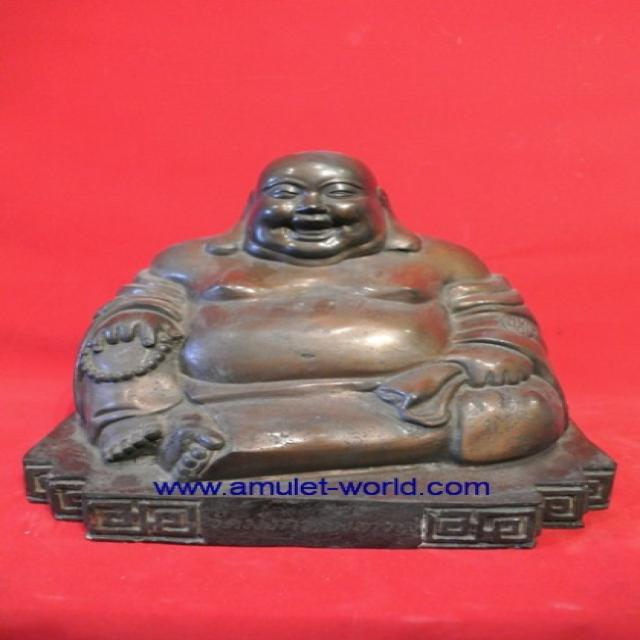Smiling Buddha: (107, 145, 519, 491)
